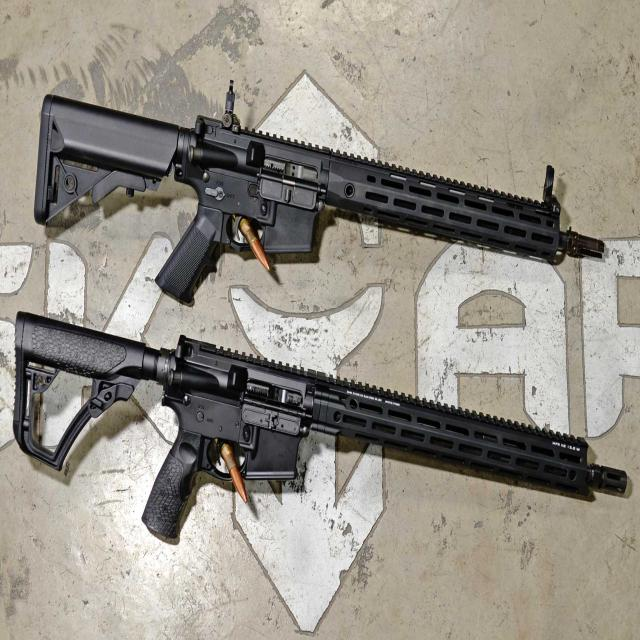Rifle: (13, 313, 632, 546), (33, 96, 608, 309)
